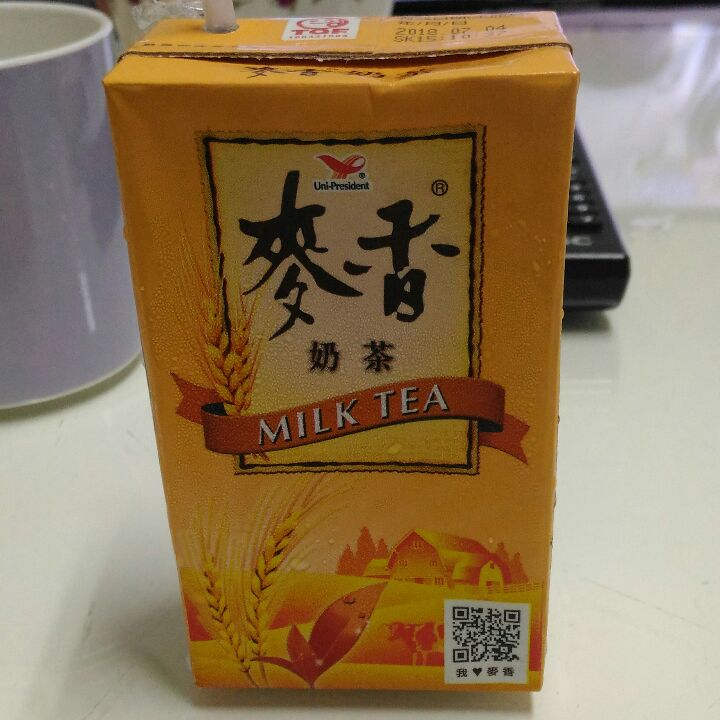milk tea: (163, 11, 581, 688)
